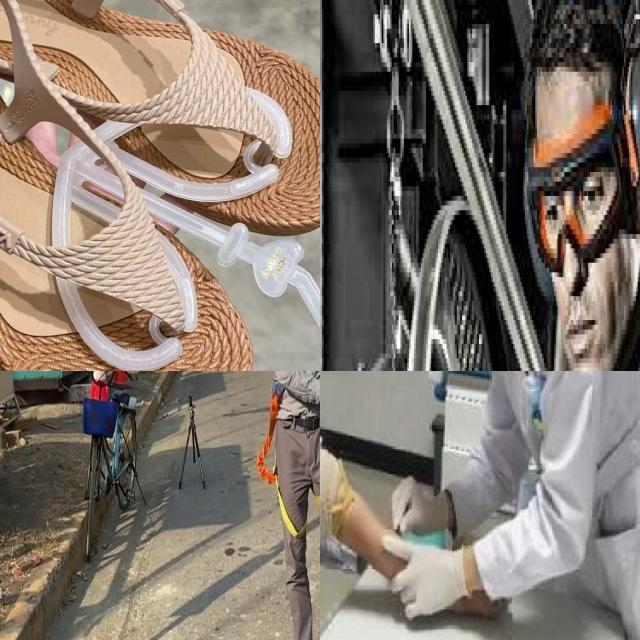Ear-protection: (540, 0, 640, 242)
Harness: (257, 386, 306, 538)
Sandals: (0, 0, 320, 371)
hand_glove: (383, 534, 454, 627), (385, 470, 443, 536)
hand_noglove: (463, 588, 511, 622)
person: (380, 371, 640, 640)
